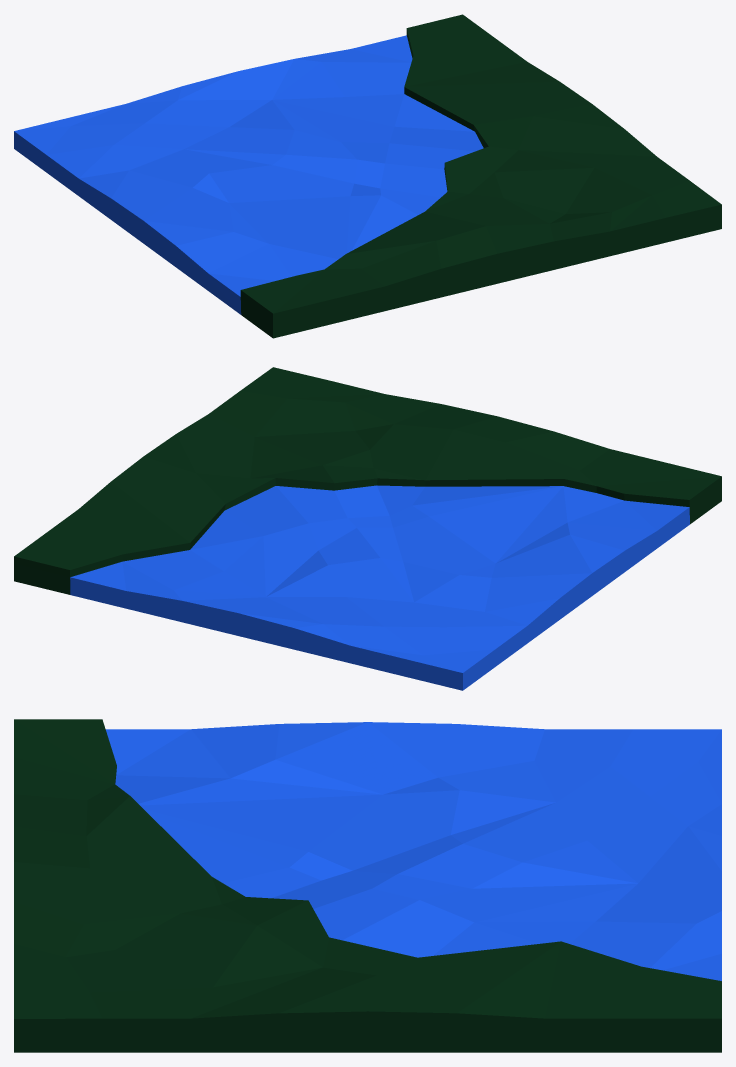
File: Water_green_1.FBX
3 renders of one model, top to bottom at view 1: azimuth 30°, elevation 25°; view 2: azimuth 150°, elevation 25°; view 3: azimuth 270°, elevation 25°, orthographic. The views are drawn at different scales.
Visible parts, largest first — view 1: Mud_green1; view 2: Mud_green1; view 3: Mud_green1.
Boxes of the visible parts, x1,y1,x2,y2 form: Mud_green1: (14, 14, 721, 338); Mud_green1: (14, 367, 721, 690); Mud_green1: (14, 719, 721, 1052).
Size of the model in its own units: 1.5 by 0.1065 by 1.5.
1 material, 1 textured.
